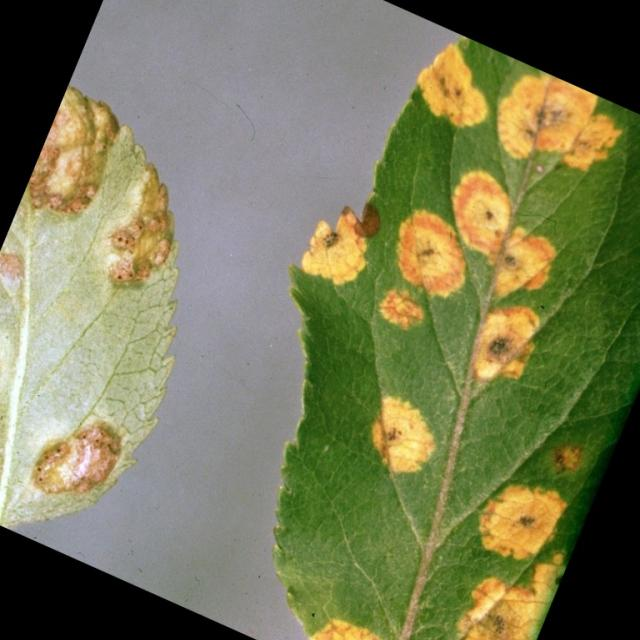Gymnosporangium_Rusts: (272, 35, 636, 638), (1, 84, 181, 528)
